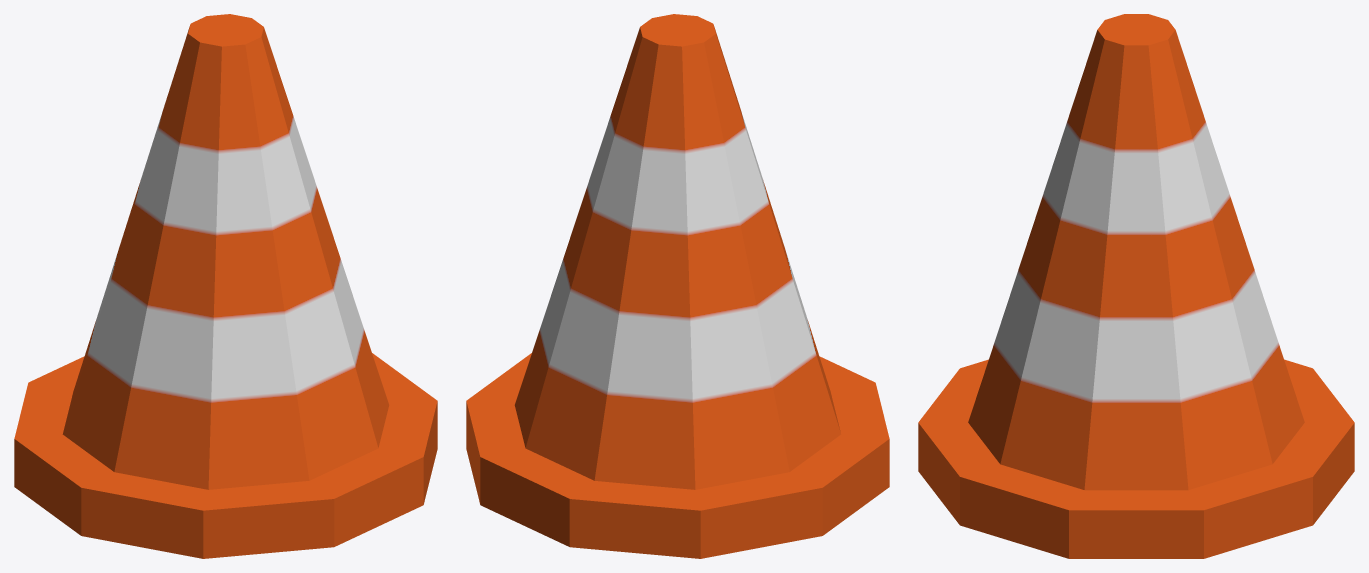
Rendered from destination.gltf.
3 renders of one model, left to right at view 1: azimuth 30°, elevation 25°; view 2: azimuth 150°, elevation 25°; view 3: azimuth 270°, elevation 25°, orthographic.
Parts seen in each view (by area): view 1: Props_Traffic cone; view 2: Props_Traffic cone; view 3: Props_Traffic cone.
Part boxes in pixels (x1,y1,x2,y2): Props_Traffic cone: (14, 14, 437, 558); Props_Traffic cone: (466, 14, 889, 558); Props_Traffic cone: (918, 14, 1354, 558).
Bounding box in the file's own units: 0.7849 × 0.9212 × 0.8253.
1 material, 1 textured.
